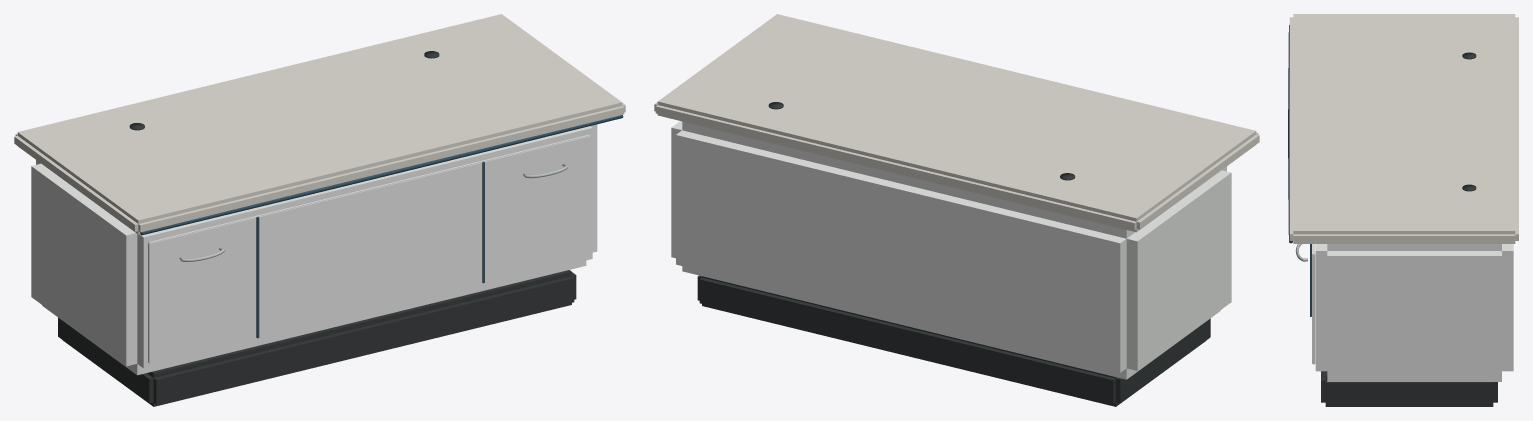
File: fixture_electronics_counter.glb
The picture shows the model from 3 angles, left to right: view 1: azimuth 30°, elevation 25°; view 2: azimuth 150°, elevation 25°; view 3: azimuth 270°, elevation 25°; orthographic projection. The views are drawn at different scales.
Visible parts, largest first — view 1: fixture_electronics_counter_FY21_porcelain_joinery, fixture_electronics_counter_Honed_solid_surface, fixture_electronics_counter_Anodised_graphite, fixture_electronics_counter_FY21_electronics_edge; view 2: fixture_electronics_counter_FY21_porcelain_joinery, fixture_electronics_counter_Honed_solid_surface, fixture_electronics_counter_Anodised_graphite; view 3: fixture_electronics_counter_Honed_solid_surface, fixture_electronics_counter_FY21_porcelain_joinery, fixture_electronics_counter_Anodised_graphite, fixture_electronics_counter_FY21_electronics_edge.
Part boxes in pixels (bbox=[...]): fixture_electronics_counter_FY21_porcelain_joinery: bbox=[31, 124, 597, 375]; fixture_electronics_counter_Honed_solid_surface: bbox=[14, 14, 625, 234]; fixture_electronics_counter_Anodised_graphite: bbox=[58, 51, 576, 406]; fixture_electronics_counter_FY21_electronics_edge: bbox=[140, 115, 623, 338]; fixture_electronics_counter_FY21_porcelain_joinery: bbox=[671, 121, 1231, 379]; fixture_electronics_counter_Honed_solid_surface: bbox=[654, 14, 1259, 232]; fixture_electronics_counter_Anodised_graphite: bbox=[697, 102, 1210, 406]; fixture_electronics_counter_Honed_solid_surface: bbox=[1289, 14, 1518, 243]; fixture_electronics_counter_FY21_porcelain_joinery: bbox=[1312, 244, 1513, 381]; fixture_electronics_counter_Anodised_graphite: bbox=[1321, 52, 1497, 406]; fixture_electronics_counter_FY21_electronics_edge: bbox=[1288, 25, 1311, 316].
Size of the model in its own units: 2 by 0.812 by 0.886.
